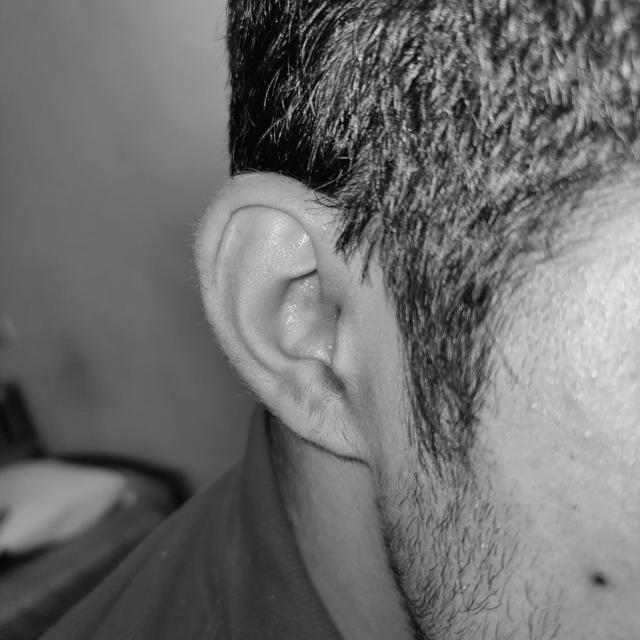ear: (195, 174, 383, 459)
